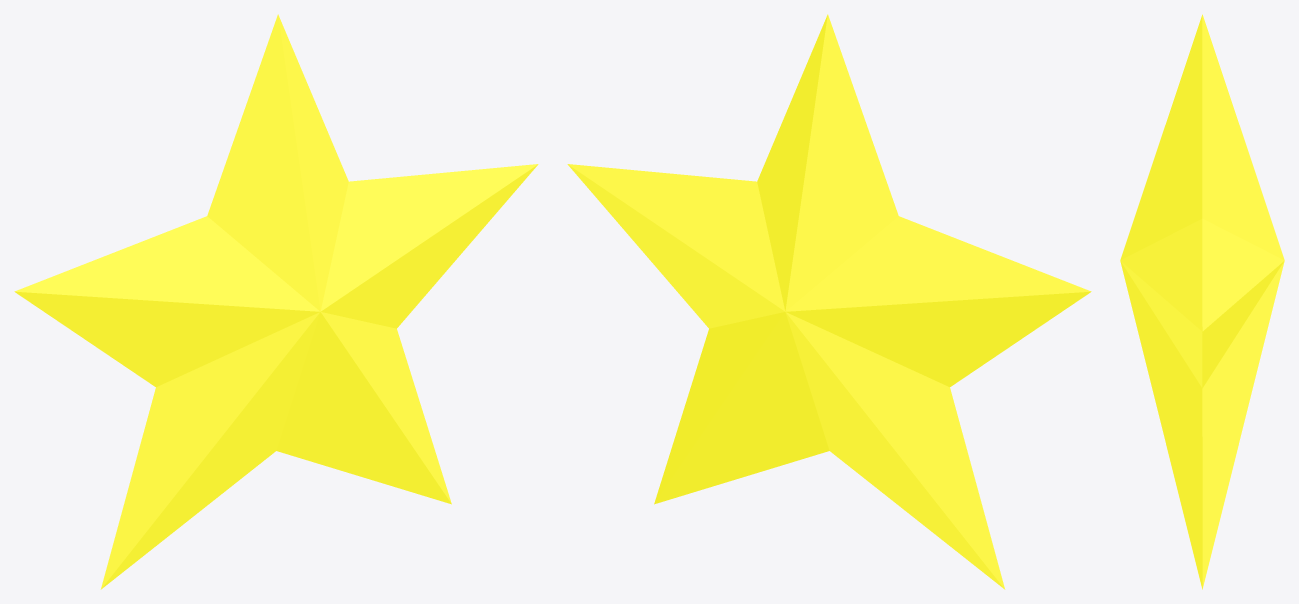
Rendered from simple_star_lowpoly.glb.
The picture shows the model from 3 angles, left to right: view 1: azimuth 30°, elevation 25°; view 2: azimuth 150°, elevation 25°; view 3: azimuth 270°, elevation 25°; orthographic projection. The views are drawn at different scales.
Visible parts, largest first — view 1: Cone; view 2: Cone; view 3: Cone.
Boxes of the visible parts, box(x1,y1,x2,y2) form: Cone: box(14, 14, 538, 589); Cone: box(567, 14, 1091, 589); Cone: box(1120, 14, 1284, 589).
Size of the model in its own units: 687 by 666 by 200.
